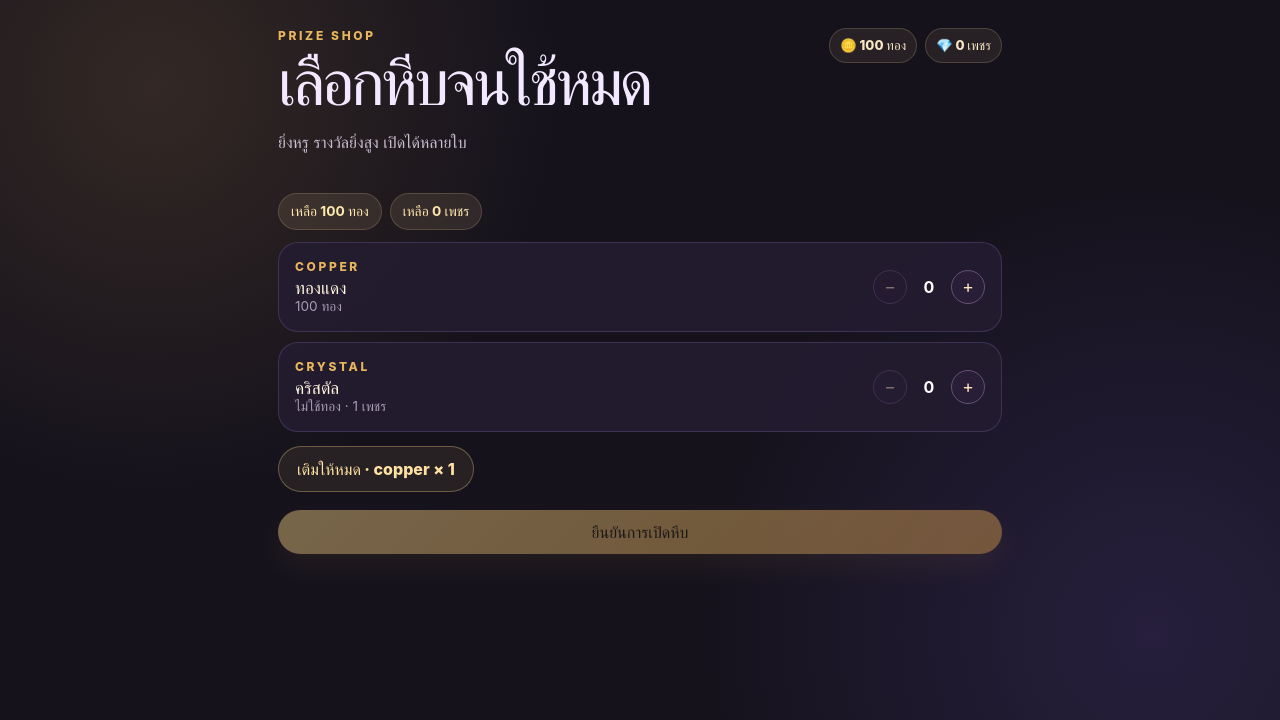
Test: applies a server completion suggestion
This screenshot has width=1280, height=720.
Click the button "เติมให้หมด · copper × 1" at (376, 468), box [278, 446, 474, 492]
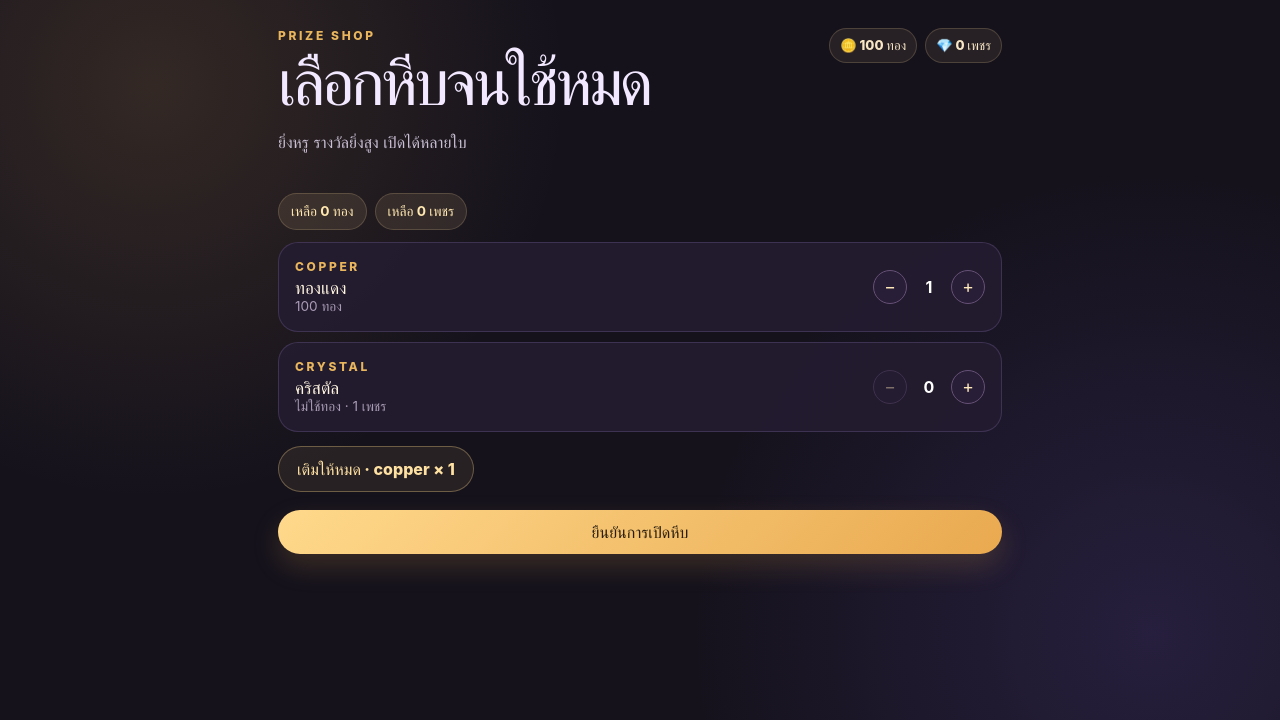
Now the text "เหลือ 0 ทอง" is shown, box [278, 192, 366, 230]
